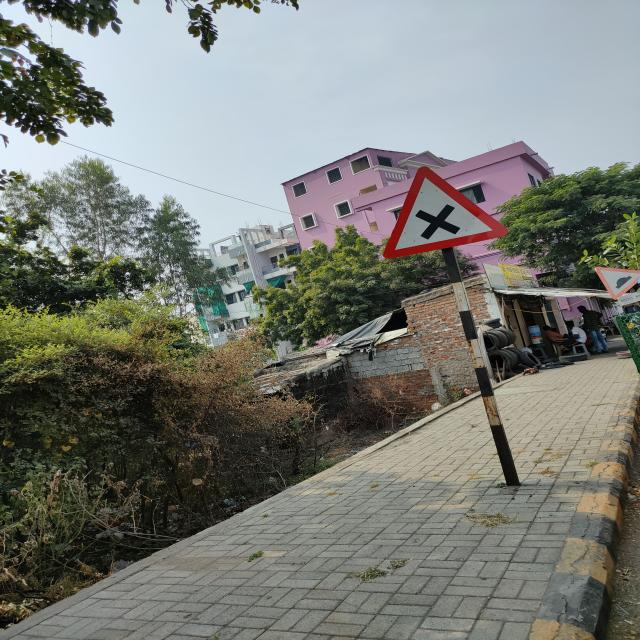CROSS_ROAD: (379, 163, 511, 262)
